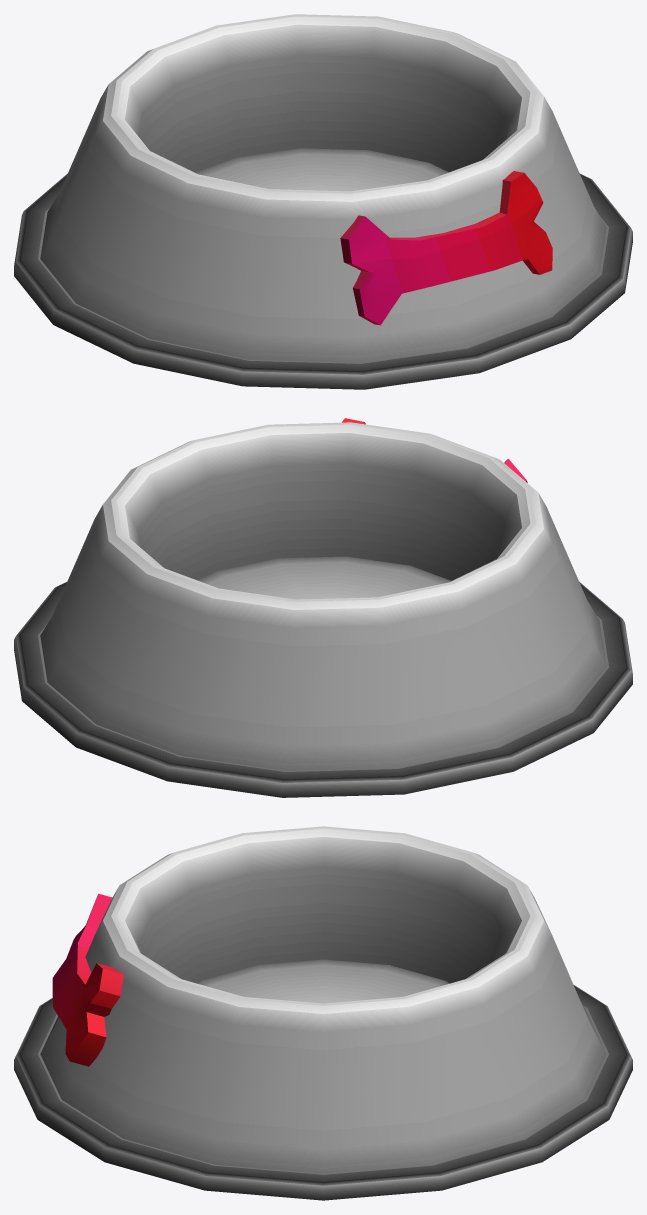
Rendered from Napf.fbx.
3 views of the same model, one above another, from view 1: azimuth 30°, elevation 25°; view 2: azimuth 150°, elevation 25°; view 3: azimuth 270°, elevation 25° (orthographic).
Visible parts, largest first — view 1: Cylinder; view 2: Cylinder; view 3: Cylinder.
Boxes of the visible parts, left/top/right/bottom form: Cylinder: left=14, top=14, right=632, bottom=389; Cylinder: left=14, top=418, right=632, bottom=797; Cylinder: left=14, top=826, right=632, bottom=1200.
Size of the model in its own units: 200 by 54.79 by 200.
